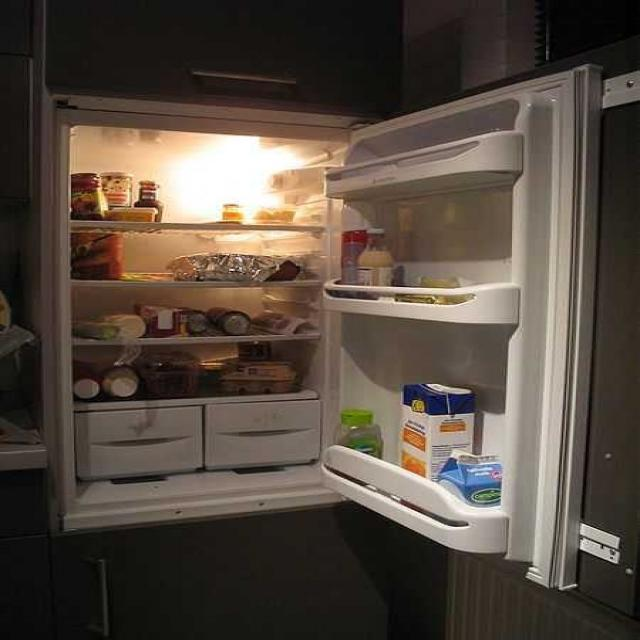refrigerator: (44, 91, 552, 551)
